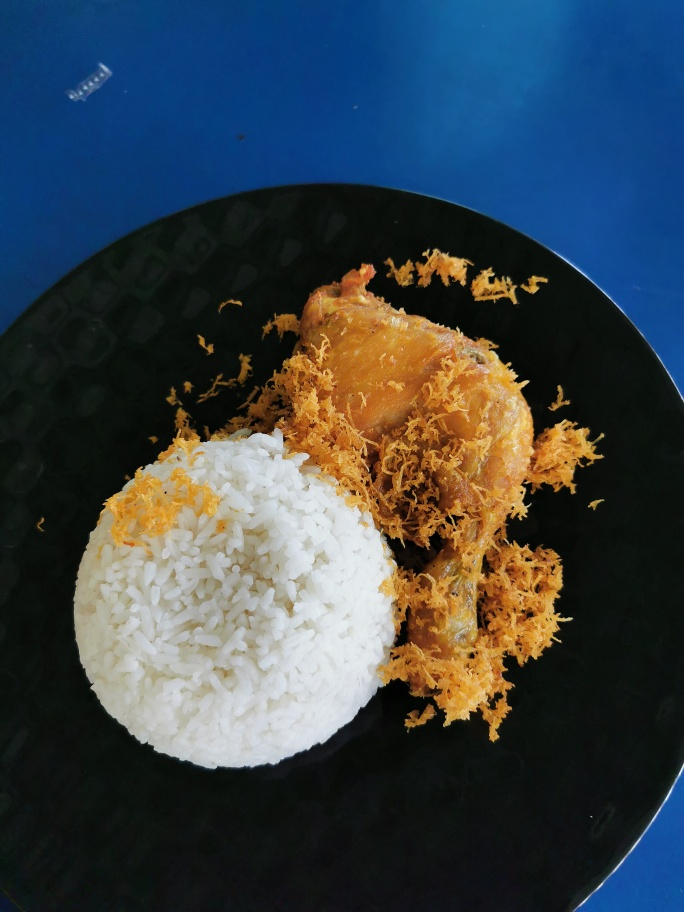ayam goreng: (272, 255, 568, 716)
nasi putih: (68, 414, 412, 790)
